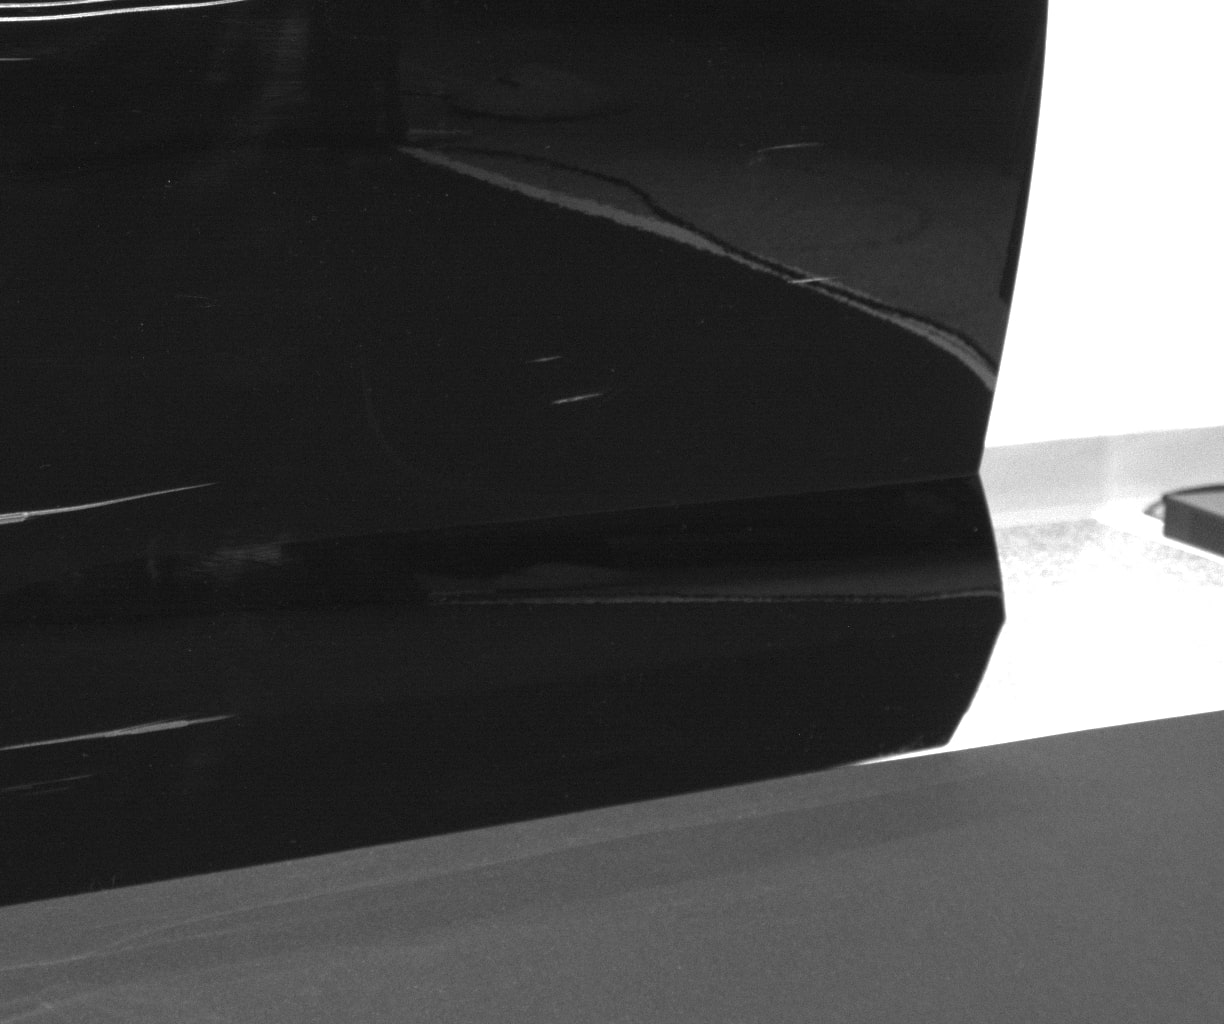scratch: (1, 481, 218, 523), (1, 713, 233, 751), (1, 1, 243, 22), (553, 391, 602, 406), (755, 141, 816, 152), (784, 275, 837, 284), (529, 354, 561, 364), (1, 56, 33, 62)
